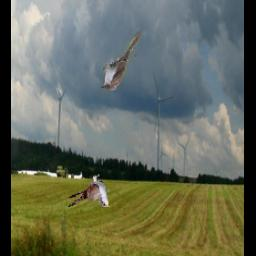Cuckoo: (100, 32, 142, 92), (69, 174, 112, 207)
